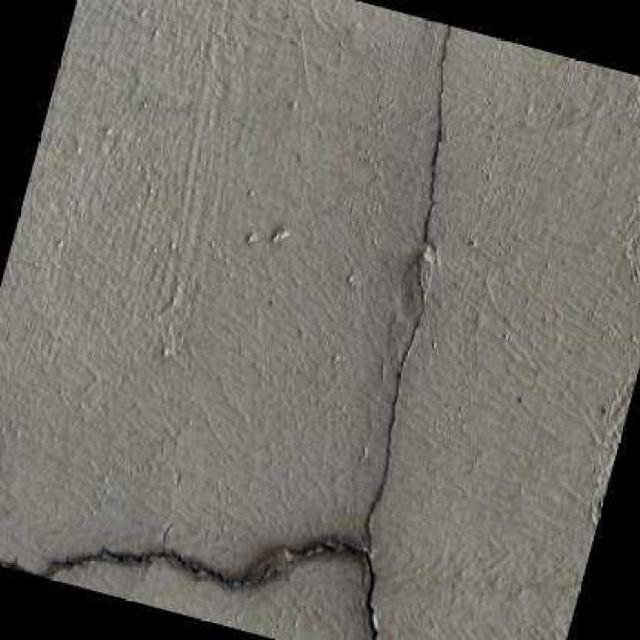D00: (0, 22, 452, 640)
